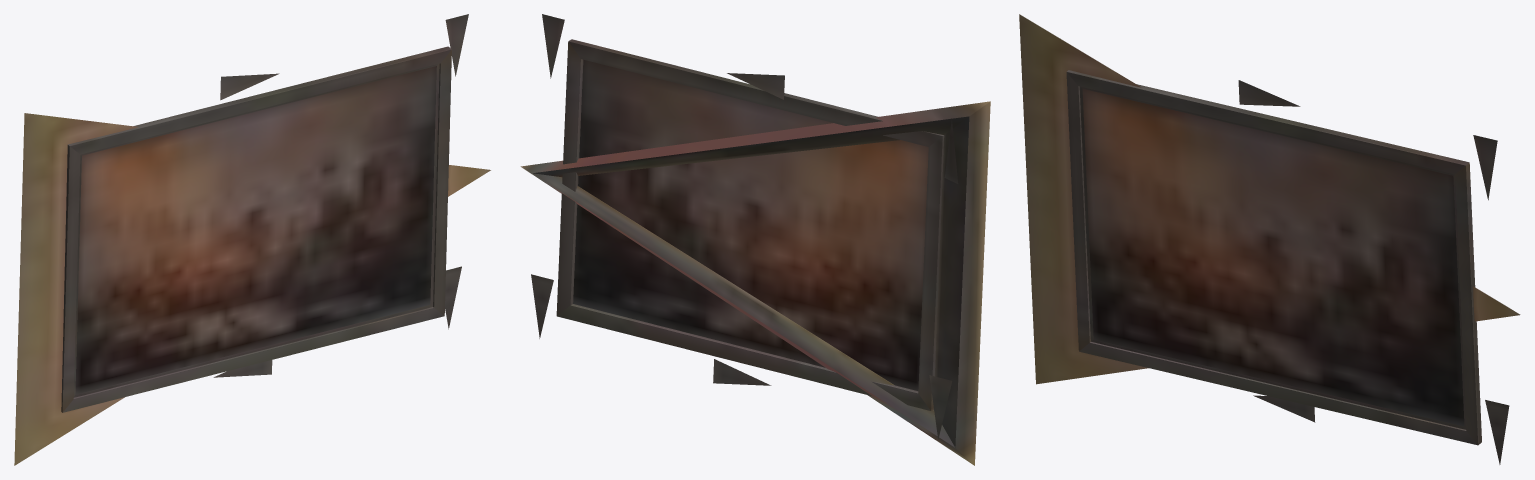
Rendered from painting-landscape-a.lod1.glb.
3 renders of one model, left to right at view 1: azimuth 30°, elevation 25°; view 2: azimuth 150°, elevation 25°; view 3: azimuth 330°, elevation 25°, orthographic. The views are drawn at different scales.
Parts seen in each view (by area): view 1: painting-landscape-a; view 2: painting-landscape-a; view 3: painting-landscape-a.
Part boxes in pixels (<box>): painting-landscape-a: <box>14,14,490,465</box>; painting-landscape-a: <box>520,14,990,465</box>; painting-landscape-a: <box>1019,14,1520,464</box>.
Bounding box in the file's own units: 0.7346 × 0.5385 × 0.0482.
Materials: 1 (1 with a texture image).
